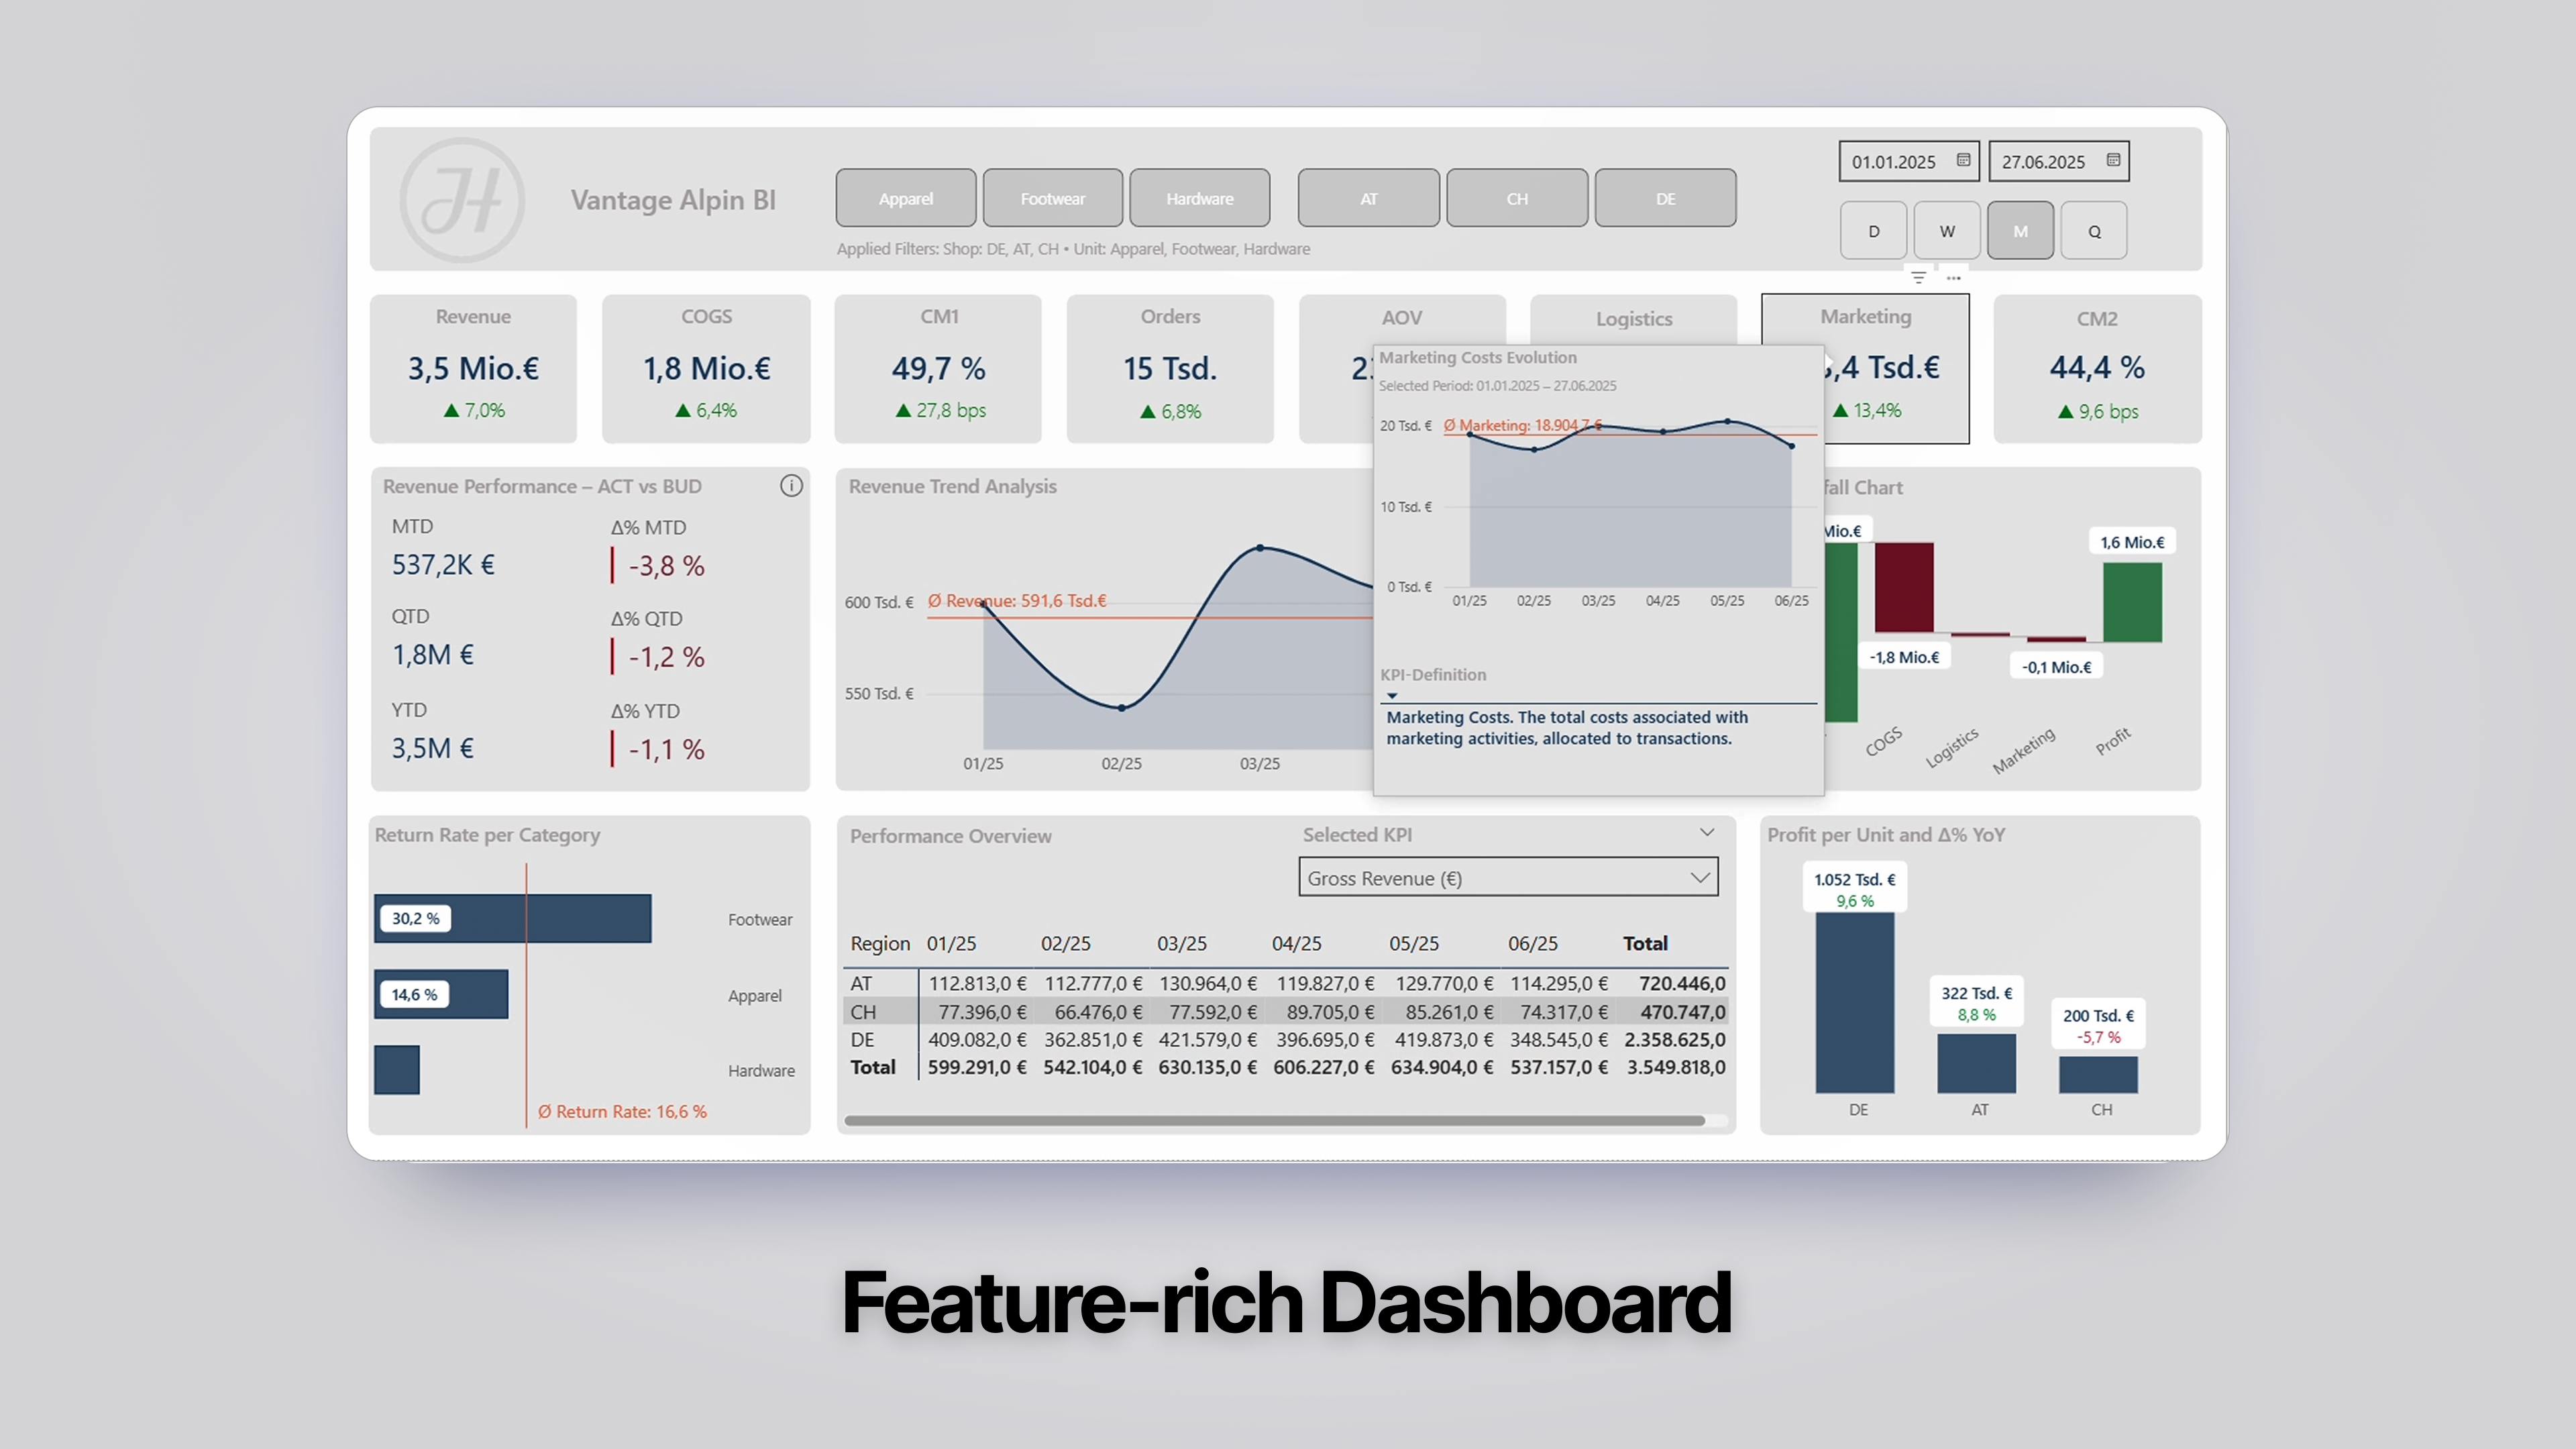

Layout of this report page (visuals, bound fields, positions):
{"tool":"powerbi","page":{"name":"1. Overview","canvas":[1280,720],"ordinal":0},"visuals":[{"type":"shape","title":"Profit Chart BG","box":[963.1,485.7,300.2,217.9],"z":1000},{"type":"shape","title":"Waterfall Chart Background","box":[964.2,248.1,299.2,221],"z":2000},{"type":"shape","title":"Return Rate Chart BG","box":[15.6,485.6,301.1,217.8],"z":3000},{"type":"shape","title":"Revenue Performance BG","box":[16.9,248.5,299.4,221.4],"z":4000},{"type":"shape","title":"CM2 Card BG","box":[1122.2,131.1,142.3,101.8],"z":5000},{"type":"shape","title":"Marketing Card BG","box":[964.3,131.1,141.5,101.8],"z":6000},{"type":"shape","title":"Logistics Card BG","box":[806.5,131.1,141.5,101.8],"z":7000},{"type":"shape","title":"AOV Card BG","box":[648.6,131.1,141.5,101.8],"z":8000},{"type":"shape","title":"Orders Card BG","box":[490.8,131.1,141.5,101.8],"z":9000},{"type":"shape","title":"CM1 Card BG","box":[332.9,131.1,141.5,101.8],"z":10000},{"type":"shape","title":"COGS Card BG","box":[174.2,131.1,142.3,101.8],"z":11000},{"type":"shape","title":"Revenue Card BG","box":[16.4,131.1,141.5,101.8],"z":12000},{"type":"shape","title":"Navigation BG","box":[15.8,16.9,1248.4,98.3],"z":13000},{"type":"shape","title":"Trend BG ","box":[333.3,248.9,614.4,220],"z":14000},{"type":"advancedSlicerVisual","title":"Shop Slicer","fields":{"Values":["fct_transactions.shop_key"]},"box":[648,45,299,40],"z":15000},{"type":"card","title":"Revenue Card","fields":{"Values":["00 - Measuretable.Gross Revenue ACT (€)"]},"box":[16.3,131,141.2,101.6],"z":16000},{"type":"card","title":"AOV Card","fields":{"Values":["00 - Measuretable.AOV ACT (€)"]},"box":[648.7,131.3,141.3,101.7],"z":17000},{"type":"card","title":"CM1 Card","fields":{"Values":["00 - Measuretable.CM1 Margin ACT (%)"]},"box":[333.5,131.3,140.9,101.7],"z":18000},{"type":"card","title":"CM2 Card","fields":{"Values":["00 - Measuretable.CM2 Margin ACT (%)"]},"box":[1122,130.2,142,102.5],"z":19000},{"type":"card","title":"COGS Card","fields":{"Values":["00 - Measuretable.COGS Total ACT (€)"]},"box":[175.2,131.3,141.7,101.7],"z":20000},{"type":"card","title":"Orders Card","fields":{"Values":["00 - Measuretable.Orders Total ACT (#)"]},"box":[490.9,131.3,141.3,101.7],"z":21000},{"type":"card","title":"Logistics Card","fields":{"Values":["00 - Measuretable.Logistics Cost ACT (€)"]},"box":[806.5,131.3,141.3,101.7],"z":22000},{"type":"card","title":"Marketing Card","fields":{"Values":["00 - Measuretable.Marketing Cost ACT (€)"]},"box":[964,130.2,142,102.5],"z":23000},{"type":"advancedSlicerVisual","title":"BU Slicer","fields":{"Values":["dim_products.business_unit"]},"box":[333.1,44.8,298.9,40.6],"z":24000},{"type":"clusteredBarChart","title":"Return Rate per Category","fields":{"Category":["dim_products.business_unit"],"Y":["00 - Measuretable.Returned ACT (%)"]},"box":[15.7,485.9,298.8,217.3],"z":25000},{"type":"lineChart","title":"Time Series Chart","fields":{"Category":["synth_dim_date.Month Year (MM/YY)"],"Y":["_Measuretable.Gross Revenue ACT (€)"]},"box":[334.2,277.5,613.3,191.7],"z":26000},{"type":"shape","title":"Trend Analysis Title Text","box":[333.6,248.2,298.2,30],"z":27000},{"type":"clusteredColumnChart","title":"Profit per Unit and Δ% YoY","fields":{"Category":["fct_transactions.shop_key"],"Y":["00 - Measuretable.Profit ACT (€)"]},"box":[963.6,485.5,299.1,218.2],"z":28000},{"type":"waterfallChart","title":"Waterfall Chart","fields":{"Category":["Waterfall Categories.Category"],"Y":["Waterfall Categories.Waterfall Value"]},"box":[964.4,248.8,299.2,221],"z":29000},{"type":"shape","title":"Revenue Performance Title","box":[17.4,248.7,257.8,29.1],"z":30000},{"type":"multiRowCard","title":"QTD ","fields":{"Values":["00 - Measuretable.Gross Revenue QTD AF"]},"box":[17.3,341.2,140.4,64.2],"z":31000},{"type":"multiRowCard","title":"YTD ","fields":{"Values":["00 - Measuretable.Gross Revenue YTD AF"]},"box":[17.3,404.5,140,63.8],"z":32000},{"type":"multiRowCard","title":"MTD ","fields":{"Values":["00 - Measuretable.Gross Revenue MTD AF"]},"box":[17.3,279.9,140,61.7],"z":33000},{"type":"advancedSlicerVisual","title":"DWM Slicer","fields":{"Values":["Parameter.Parameter"]},"box":[1017,67,197,40],"z":34000},{"type":"multiRowCard","title":"Δ% QTD ","fields":{"Values":["00 - Measuretable.Delta ACT vs BUD QTD"]},"box":[175.2,342.8,140,64.2],"z":35000},{"type":"multiRowCard","title":"Δ% YTD ","fields":{"Values":["00 - Measuretable.Delta ACT vs BUD YTD"]},"box":[175.2,405.7,140,63.8],"z":36000},{"type":"multiRowCard","title":"Δ% MTD ","fields":{"Values":["00 - Measuretable.Delta ACT vs BUD MTD"]},"box":[175.2,280.4,140,60.9],"z":37000},{"type":"shape","title":"Main Title Text","box":[132,45,183,41],"z":38000},{"type":"slicer","title":"Date Picker","fields":{"Values":["07 - DIM_Date.Date"]},"box":[1004,16,220,48],"z":39000},{"type":"image","title":"Logo","box":[33,24,91,86],"z":40000},{"type":"card","fields":{"Values":["00 - Measuretable.CM2 Margin Δ YoY Display"]},"box":[1122.1,191.4,141.8,41.8],"z":41000},{"type":"card","fields":{"Values":["00 - Measuretable.Gross Revenue Δ% YoY Display"]},"box":[16,191.4,141.6,41.3],"z":42000},{"type":"card","fields":{"Values":["00 - Measuretable.COGS Δ% YoY Display"]},"box":[174.5,191.4,140.8,40.5],"z":43000},{"type":"card","fields":{"Values":["00 - Measuretable.CM1 Δ% YoY Display"]},"box":[333.9,191.4,140.8,41.3],"z":44000},{"type":"card","fields":{"Values":["00 - Measuretable.Orders Δ% YoY Display"]},"box":[490.8,191.6,140.8,41.6],"z":45000},{"type":"card","fields":{"Values":["00 - Measuretable.AOV Δ% YoY Display"]},"box":[648.9,191.1,141.1,42.2],"z":46000},{"type":"card","fields":{"Values":["00 - Measuretable.Logistics Cost Δ% YoY Display"]},"box":[806.8,191.4,140.7,41.8],"z":47000},{"type":"card","fields":{"Values":["00 - Measuretable.Marketing Cost Δ% YoY Display"]},"box":[965.3,191.4,140,41.3],"z":48000},{"type":"shape","title":"Revenue Performance Title","box":[16.1,131.4,141.1,27.1],"z":49000},{"type":"shape","title":"Revenue Performance Title","box":[174.3,131.4,142.9,27.1],"z":50000},{"type":"shape","title":"Revenue Performance Title","box":[333.9,129.8,140,28.7],"z":51000},{"type":"shape","title":"Revenue Performance Title","box":[490.7,131.4,141.4,27.1],"z":52000},{"type":"shape","title":"Revenue Performance Title","box":[648.2,131.1,141.8,29.3],"z":53000},{"type":"shape","title":"Revenue Performance Title","box":[806.8,131.4,140,28.9],"z":54000},{"type":"shape","title":"Revenue Performance Title","box":[964.3,131.4,141.1,27.1],"z":55000},{"type":"shape","title":"Revenue Performance Title","box":[1122.1,131.4,141.8,28.9],"z":56000},{"type":"actionButton","box":[290.8,247.5,25,28.3],"z":57000},{"type":"shape","title":"Trend BG ","box":[334.2,485.8,612.5,217.5],"z":58000},{"type":"shape","title":"Trend Analysis Title Text","box":[334.3,486.1,304.8,29.1],"z":59000},{"type":"pivotTable","title":"Time Series Chart","fields":{"Columns":["synth_dim_date.Month Year (MM/YY)"],"Rows":["fct_transactions.shop_key"],"Values":["_Measuretable.Gross Revenue ACT (€)"]},"box":[333.8,556.9,613.1,146.2],"z":60000},{"type":"slicer","title":"Shop Slicer","fields":{"Values":["param_kpis.Parameter"]},"box":[639,486,306,71],"z":61000},{"type":"card","fields":{"Values":["CG - Time Intelligence.Selected Period (From–To)"]},"box":[648.2,248.2,297.3,30],"z":62000},{"type":"multiRowCard","fields":{"Values":["CG - Time Intelligence.Applied Filters"]},"box":[334,92,614,23],"z":63000}]}

Visuals, with their boxes in screenshot pixels (x1, y1, x2, y2), scaled from the page's 1280x720 canvas onto the 2576x1449 screenshot:
"Profit Chart BG" shape: Rect(1938, 977, 2542, 1416)
"Waterfall Chart Background" shape: Rect(1941, 499, 2542, 944)
"Return Rate Chart BG" shape: Rect(32, 977, 637, 1415)
"Revenue Performance BG" shape: Rect(34, 500, 637, 946)
"CM2 Card BG" shape: Rect(2259, 264, 2545, 469)
"Marketing Card BG" shape: Rect(1941, 264, 2225, 469)
"Logistics Card BG" shape: Rect(1623, 264, 1908, 469)
"AOV Card BG" shape: Rect(1305, 264, 1590, 469)
"Orders Card BG" shape: Rect(987, 264, 1273, 469)
"CM1 Card BG" shape: Rect(670, 264, 955, 469)
"COGS Card BG" shape: Rect(351, 264, 637, 469)
"Revenue Card BG" shape: Rect(33, 264, 318, 469)
"Navigation BG" shape: Rect(32, 34, 2544, 232)
"Trend BG " shape: Rect(671, 501, 1907, 944)
"Shop Slicer" advancedSlicerVisual: Rect(1304, 91, 1906, 171)
"Revenue Card" card: Rect(33, 264, 317, 468)
"AOV Card" card: Rect(1305, 264, 1590, 469)
"CM1 Card" card: Rect(671, 264, 955, 469)
"CM2 Card" card: Rect(2258, 262, 2544, 468)
"COGS Card" card: Rect(353, 264, 638, 469)
"Orders Card" card: Rect(988, 264, 1273, 469)
"Logistics Card" card: Rect(1623, 264, 1907, 469)
"Marketing Card" card: Rect(1940, 262, 2226, 468)
"BU Slicer" advancedSlicerVisual: Rect(670, 90, 1272, 172)
"Return Rate per Category" clusteredBarChart: Rect(32, 978, 633, 1415)
"Time Series Chart" lineChart: Rect(673, 558, 1907, 945)
"Trend Analysis Title Text" shape: Rect(672, 500, 1271, 560)
"Profit per Unit and Δ% YoY" clusteredColumnChart: Rect(1939, 977, 2541, 1416)
"Waterfall Chart" waterfallChart: Rect(1941, 500, 2543, 945)
"Revenue Performance Title" shape: Rect(35, 500, 554, 559)
"QTD " multiRowCard: Rect(35, 687, 317, 816)
"YTD " multiRowCard: Rect(35, 814, 317, 943)
"MTD " multiRowCard: Rect(35, 563, 317, 688)
"DWM Slicer" advancedSlicerVisual: Rect(2047, 135, 2443, 215)
"Δ% QTD " multiRowCard: Rect(353, 690, 635, 819)
"Δ% YTD " multiRowCard: Rect(353, 816, 635, 945)
"Δ% MTD " multiRowCard: Rect(353, 564, 635, 687)
"Main Title Text" shape: Rect(266, 91, 634, 173)
"Date Picker" slicer: Rect(2021, 32, 2463, 129)
"Logo" image: Rect(66, 48, 250, 221)
card - 00 - Measuretable.CM2 Margin Δ YoY Display: Rect(2258, 385, 2544, 470)
card - 00 - Measuretable.Gross Revenue Δ% YoY Display: Rect(32, 385, 317, 468)
card - 00 - Measuretable.COGS Δ% YoY Display: Rect(352, 385, 635, 467)
card - 00 - Measuretable.CM1 Δ% YoY Display: Rect(672, 385, 955, 468)
card - 00 - Measuretable.Orders Δ% YoY Display: Rect(987, 386, 1271, 470)
card - 00 - Measuretable.AOV Δ% YoY Display: Rect(1306, 384, 1590, 470)
card - 00 - Measuretable.Logistics Cost Δ% YoY Display: Rect(1623, 385, 1907, 470)
card - 00 - Measuretable.Marketing Cost Δ% YoY Display: Rect(1943, 385, 2224, 468)
"Revenue Performance Title" shape: Rect(32, 264, 317, 319)
"Revenue Performance Title" shape: Rect(351, 264, 639, 319)
"Revenue Performance Title" shape: Rect(672, 261, 954, 319)
"Revenue Performance Title" shape: Rect(987, 264, 1272, 319)
"Revenue Performance Title" shape: Rect(1305, 264, 1590, 323)
"Revenue Performance Title" shape: Rect(1623, 264, 1905, 323)
"Revenue Performance Title" shape: Rect(1941, 264, 2224, 319)
"Revenue Performance Title" shape: Rect(2258, 264, 2544, 323)
actionButton: Rect(585, 498, 635, 555)
"Trend BG " shape: Rect(673, 977, 1905, 1415)
"Trend Analysis Title Text" shape: Rect(673, 978, 1286, 1037)
"Time Series Chart" pivotTable: Rect(672, 1121, 1906, 1415)
"Shop Slicer" slicer: Rect(1286, 978, 1902, 1121)
card - CG - Time Intelligence.Selected Period (From–To): Rect(1305, 500, 1902, 560)
multiRowCard - CG - Time Intelligence.Applied Filters: Rect(672, 185, 1908, 231)
